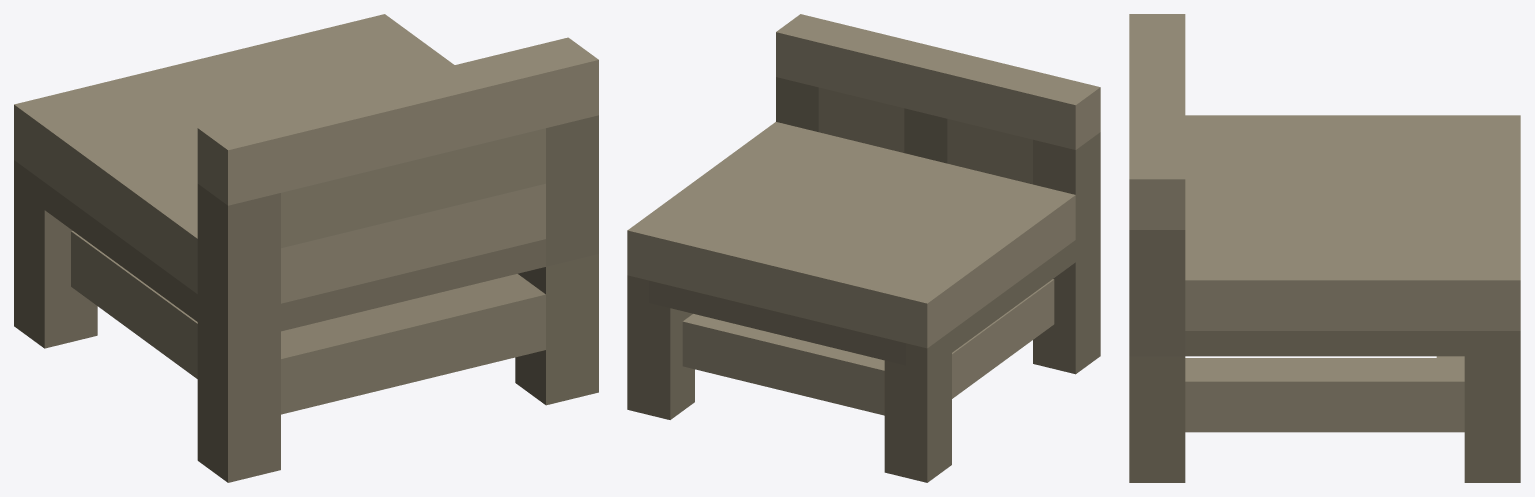
File: banco_joyero_desgastada_01.glb
3 views of the same model, side by side, from view 1: azimuth 30°, elevation 25°; view 2: azimuth 150°, elevation 25°; view 3: azimuth 270°, elevation 25° (orthographic). The views are drawn at different scales.
Visible parts, largest first — view 1: banco_joyero_desgastada; view 2: banco_joyero_desgastada; view 3: banco_joyero_desgastada.
Part boxes in pixels (x1=…): banco_joyero_desgastada: x1=14, y1=14, x2=598, y2=482; banco_joyero_desgastada: x1=627, y1=14, x2=1100, y2=482; banco_joyero_desgastada: x1=1129, y1=14, x2=1520, y2=482.
Size of the model in its own units: 1 by 0.8571 by 1.
